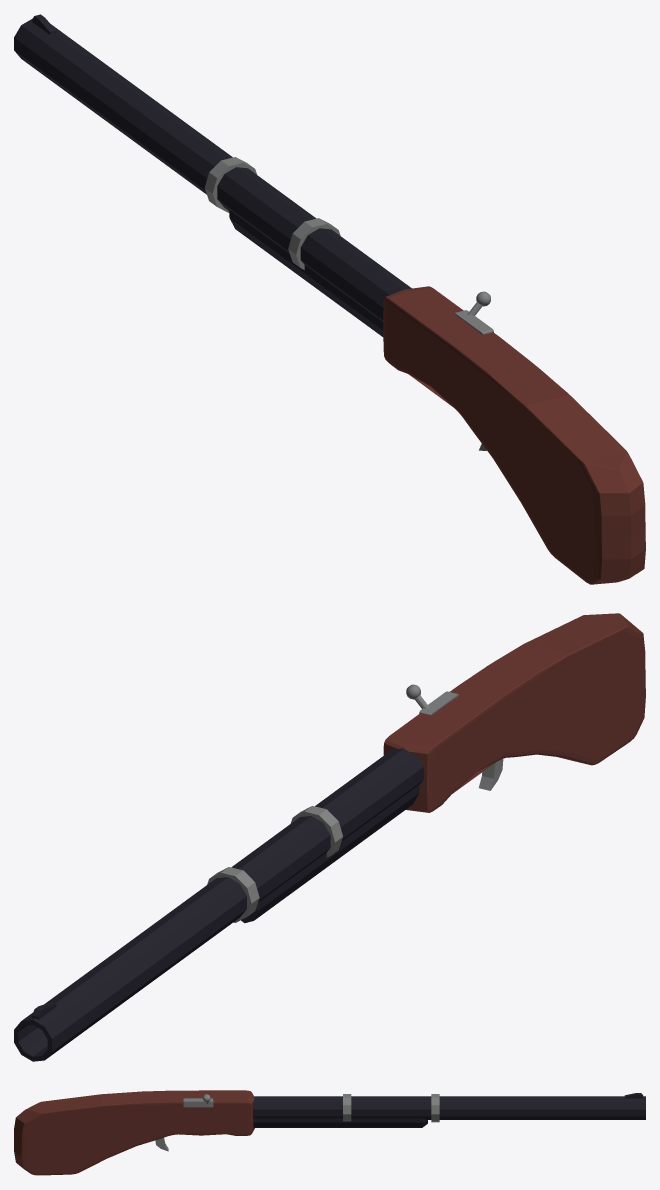
File: oldRifle.fbx
3 renders of one model, top to bottom at view 1: azimuth 30°, elevation 25°; view 2: azimuth 150°, elevation 25°; view 3: azimuth 270°, elevation 25°, orthographic. The views are drawn at different scales.
Visible parts, largest first — view 1: Handle, nozzle?, smoler nozzle, Rings 1, Rings 2; view 2: Handle, nozzle?, smoler nozzle, Rings 1, Rings 2; view 3: Handle, nozzle?, smoler nozzle, Ball Stick Platform, Rings 1, Rings 2.
Boxes of the visible parts, x1,y1,x2,y2 form: Handle: [383, 286, 645, 584]; nozzle?: [14, 18, 411, 321]; smoler nozzle: [229, 210, 383, 336]; Rings 1: [204, 157, 256, 212]; Rings 2: [288, 218, 340, 269]; Handle: [383, 613, 645, 812]; nozzle?: [14, 748, 423, 1061]; smoler nozzle: [241, 785, 419, 923]; Rings 1: [207, 867, 259, 922]; Rings 2: [290, 806, 342, 857]; Handle: [14, 1090, 254, 1175]; nozzle?: [253, 1096, 645, 1119]; smoler nozzle: [253, 1118, 427, 1127]; Ball Stick Platform: [183, 1098, 213, 1107]; Rings 1: [431, 1094, 439, 1122]; Rings 2: [343, 1094, 351, 1121].
Bounding box in the file's own units: 21.04 × 50.18 × 336.
